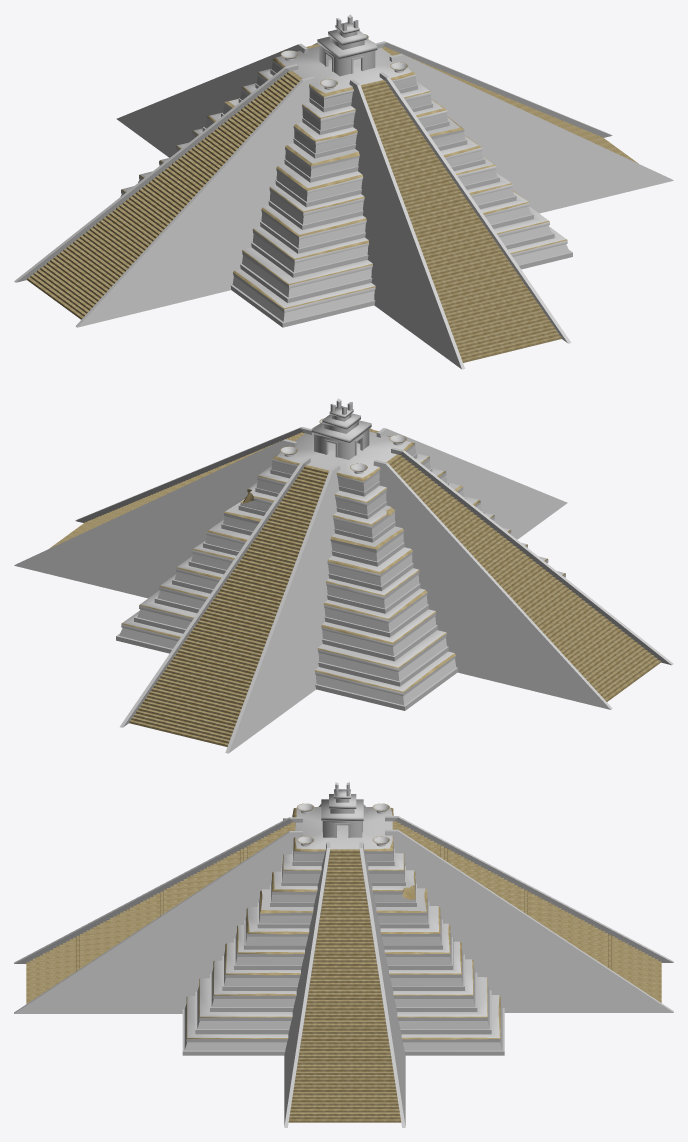
The model's file is Temple3.FBX.
The picture shows the model from 3 angles, top to bottom: view 1: azimuth 30°, elevation 25°; view 2: azimuth 150°, elevation 25°; view 3: azimuth 270°, elevation 25°; orthographic projection. The views are drawn at different scales.
Visible parts, largest first — view 1: Box006; view 2: Box006; view 3: Box006.
Boxes of the visible parts, x1,y1,x2,y2 form: Box006: (14, 14, 673, 369); Box006: (14, 398, 673, 753); Box006: (14, 782, 673, 1127).
Size of the model in its own units: 107312 by 36311 by 106685.
